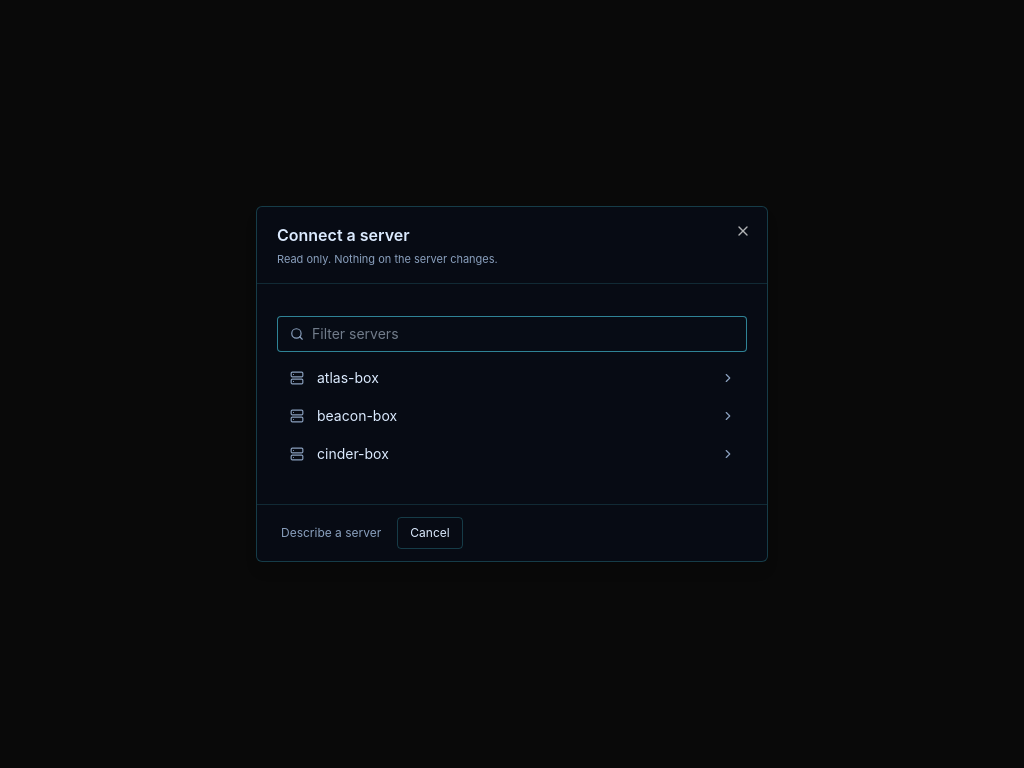
Connect: testing in place › releases a tested server when the operator picks another (BUG-157)
Click the button "atlas-box".
click(348, 378)  # box [277, 360, 747, 396]
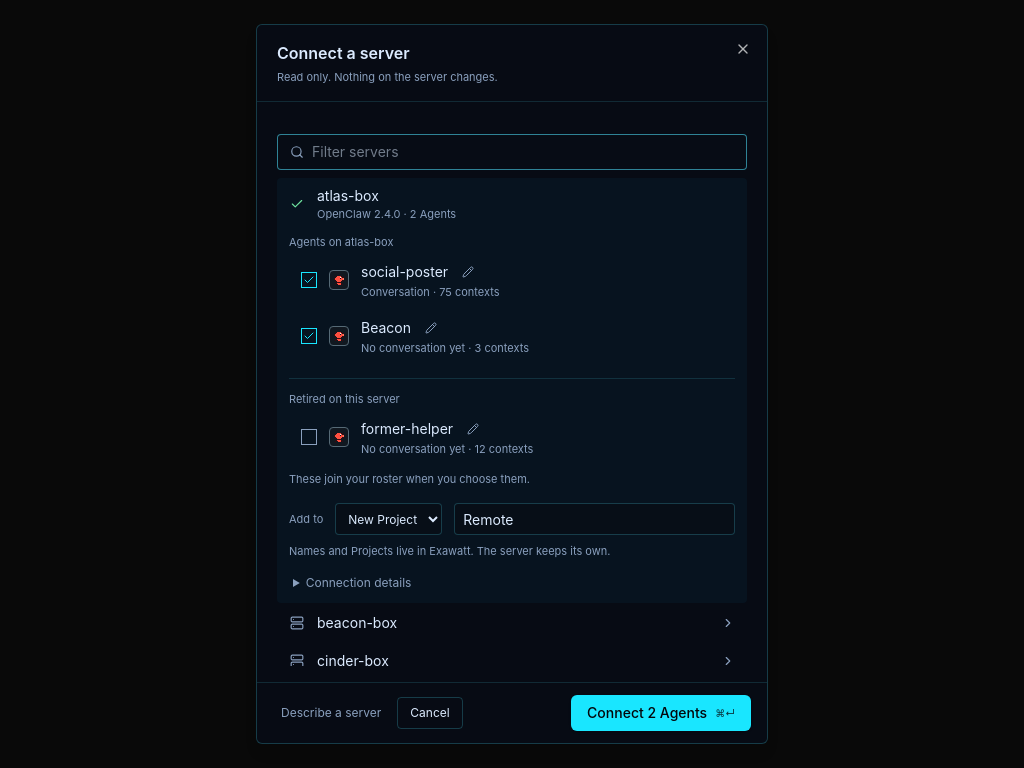
Now the heading "Agents on atlas-box" is shown, box [289, 235, 393, 249]
Click the button "beacon-box".
click(357, 622)  # box [277, 605, 747, 641]
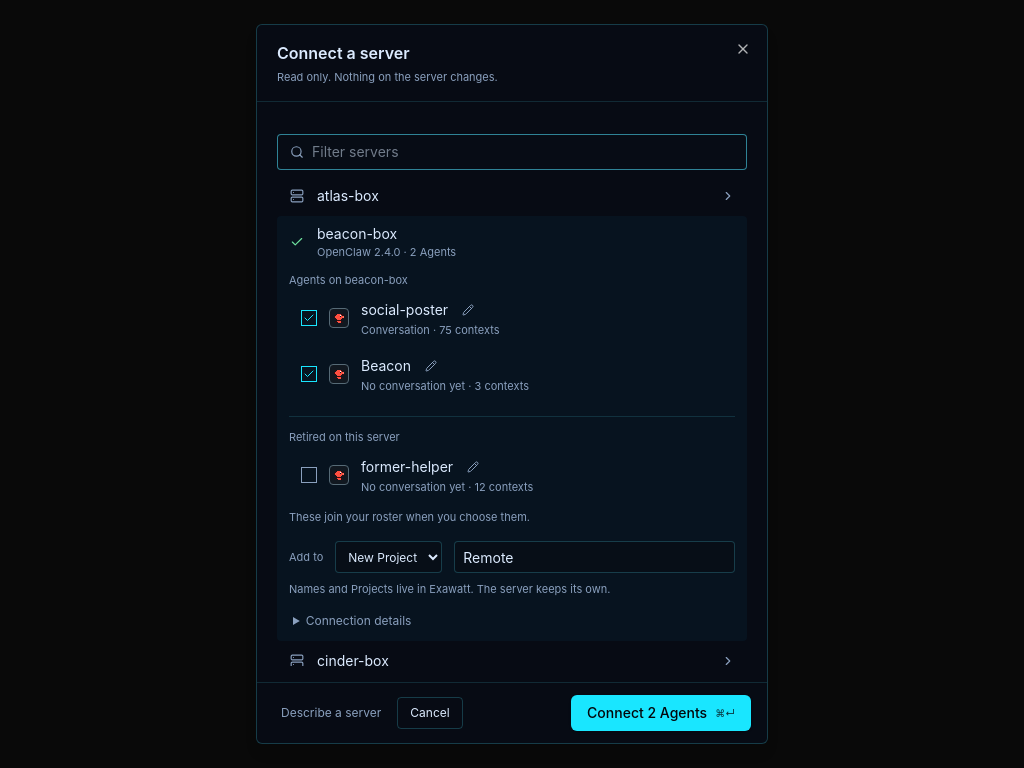
Now the heading "Agents on beacon-box" is shown, box [289, 273, 408, 287]
